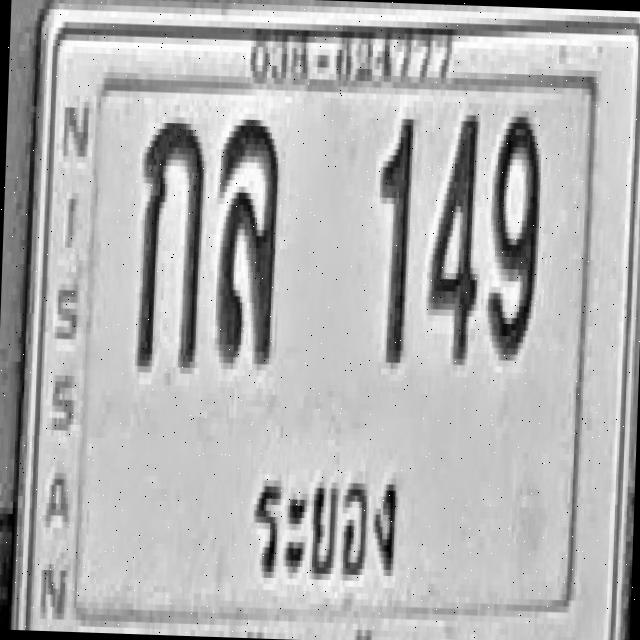1: (372, 108, 414, 360)
10GorGai: (134, 115, 205, 368)
4: (424, 104, 482, 362)
45LorLing: (213, 112, 280, 358)
9: (486, 106, 542, 358)
Rayong: (244, 452, 404, 600)
